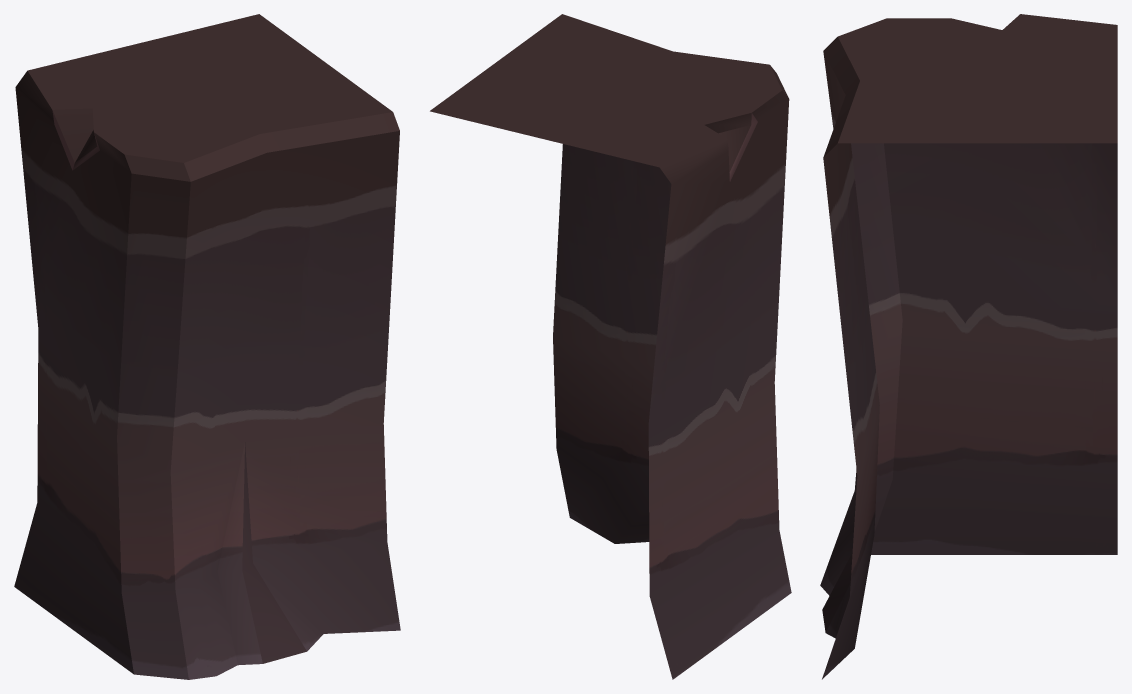
File: M_Wall_Corner_03.fbx
3 views of the same model, side by side, from view 1: azimuth 30°, elevation 25°; view 2: azimuth 150°, elevation 25°; view 3: azimuth 270°, elevation 25° (orthographic). The views are drawn at different scales.
Parts seen in each view (by area): view 1: M_Wall_Corner_03; view 2: M_Wall_Corner_03; view 3: M_Wall_Corner_03.
Part boxes in pixels (box(x1,y1,x2,y2)): M_Wall_Corner_03: box(14, 14, 400, 679); M_Wall_Corner_03: box(430, 14, 791, 679); M_Wall_Corner_03: box(820, 14, 1117, 679).
Bounding box in the file's own units: 207 × 400 × 201.
